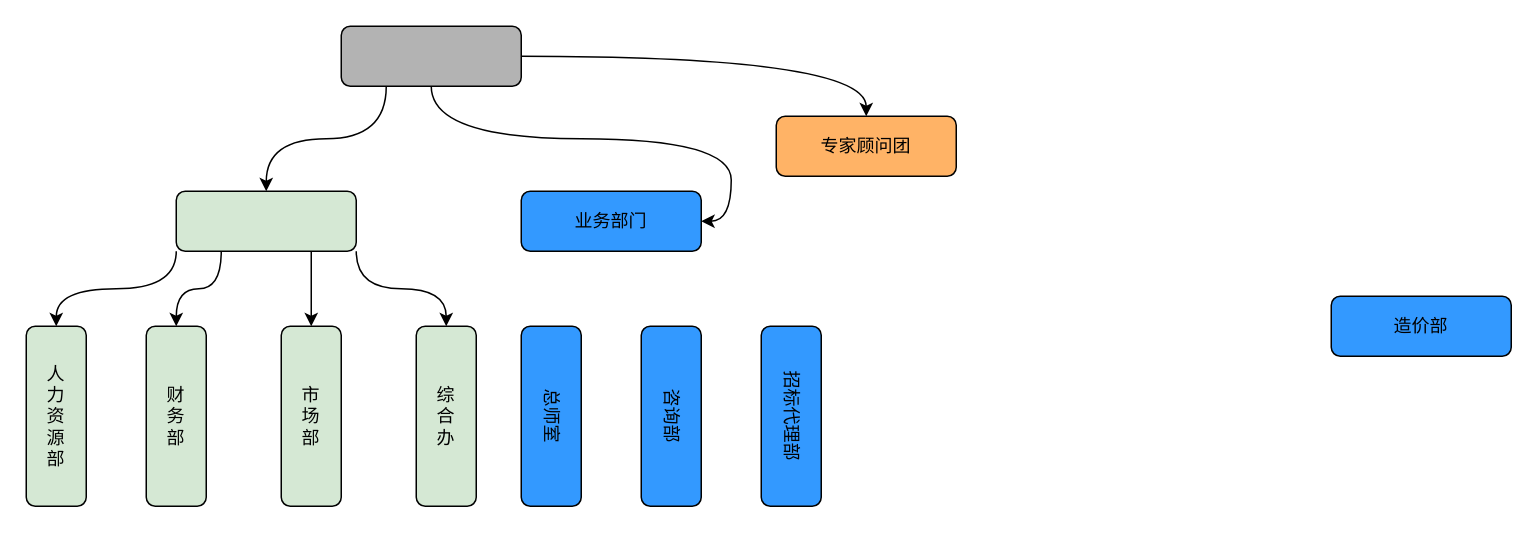
Some shapes in this 1538 by 533 pixel diagram are drawn without their labels. The shapes that lost their labels are listed below. From the top down, each one's centre as x and y in pixels, then its label:
the point at 430,55: 总经理
the point at 265,220: 职能部门
